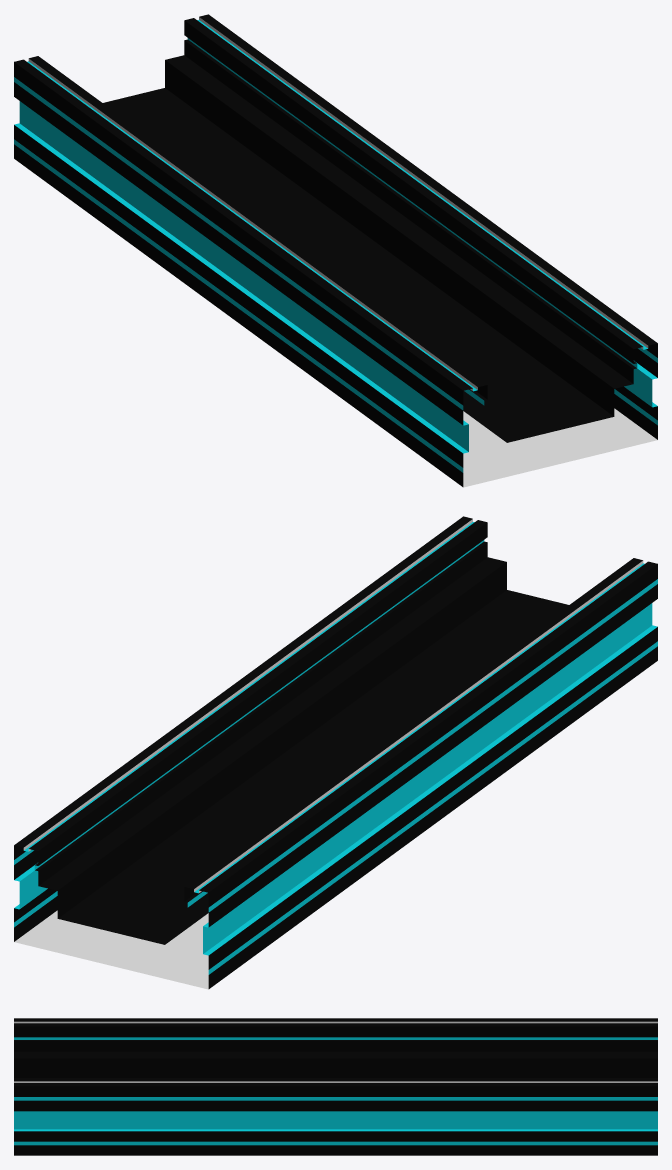
The model's file is straight.fbx.
3 renders of one model, top to bottom at view 1: azimuth 30°, elevation 25°; view 2: azimuth 150°, elevation 25°; view 3: azimuth 270°, elevation 25°, orthographic. The views are drawn at different scales.
Parts seen in each view (by area): view 1: straight; view 2: straight; view 3: straight.
Boxes of the visible parts, bbox=[...] form: straight: bbox=[14, 14, 657, 487]; straight: bbox=[14, 516, 657, 989]; straight: bbox=[14, 1018, 657, 1155].
Bounding box in the file's own units: 5 × 2.38 × 20.
